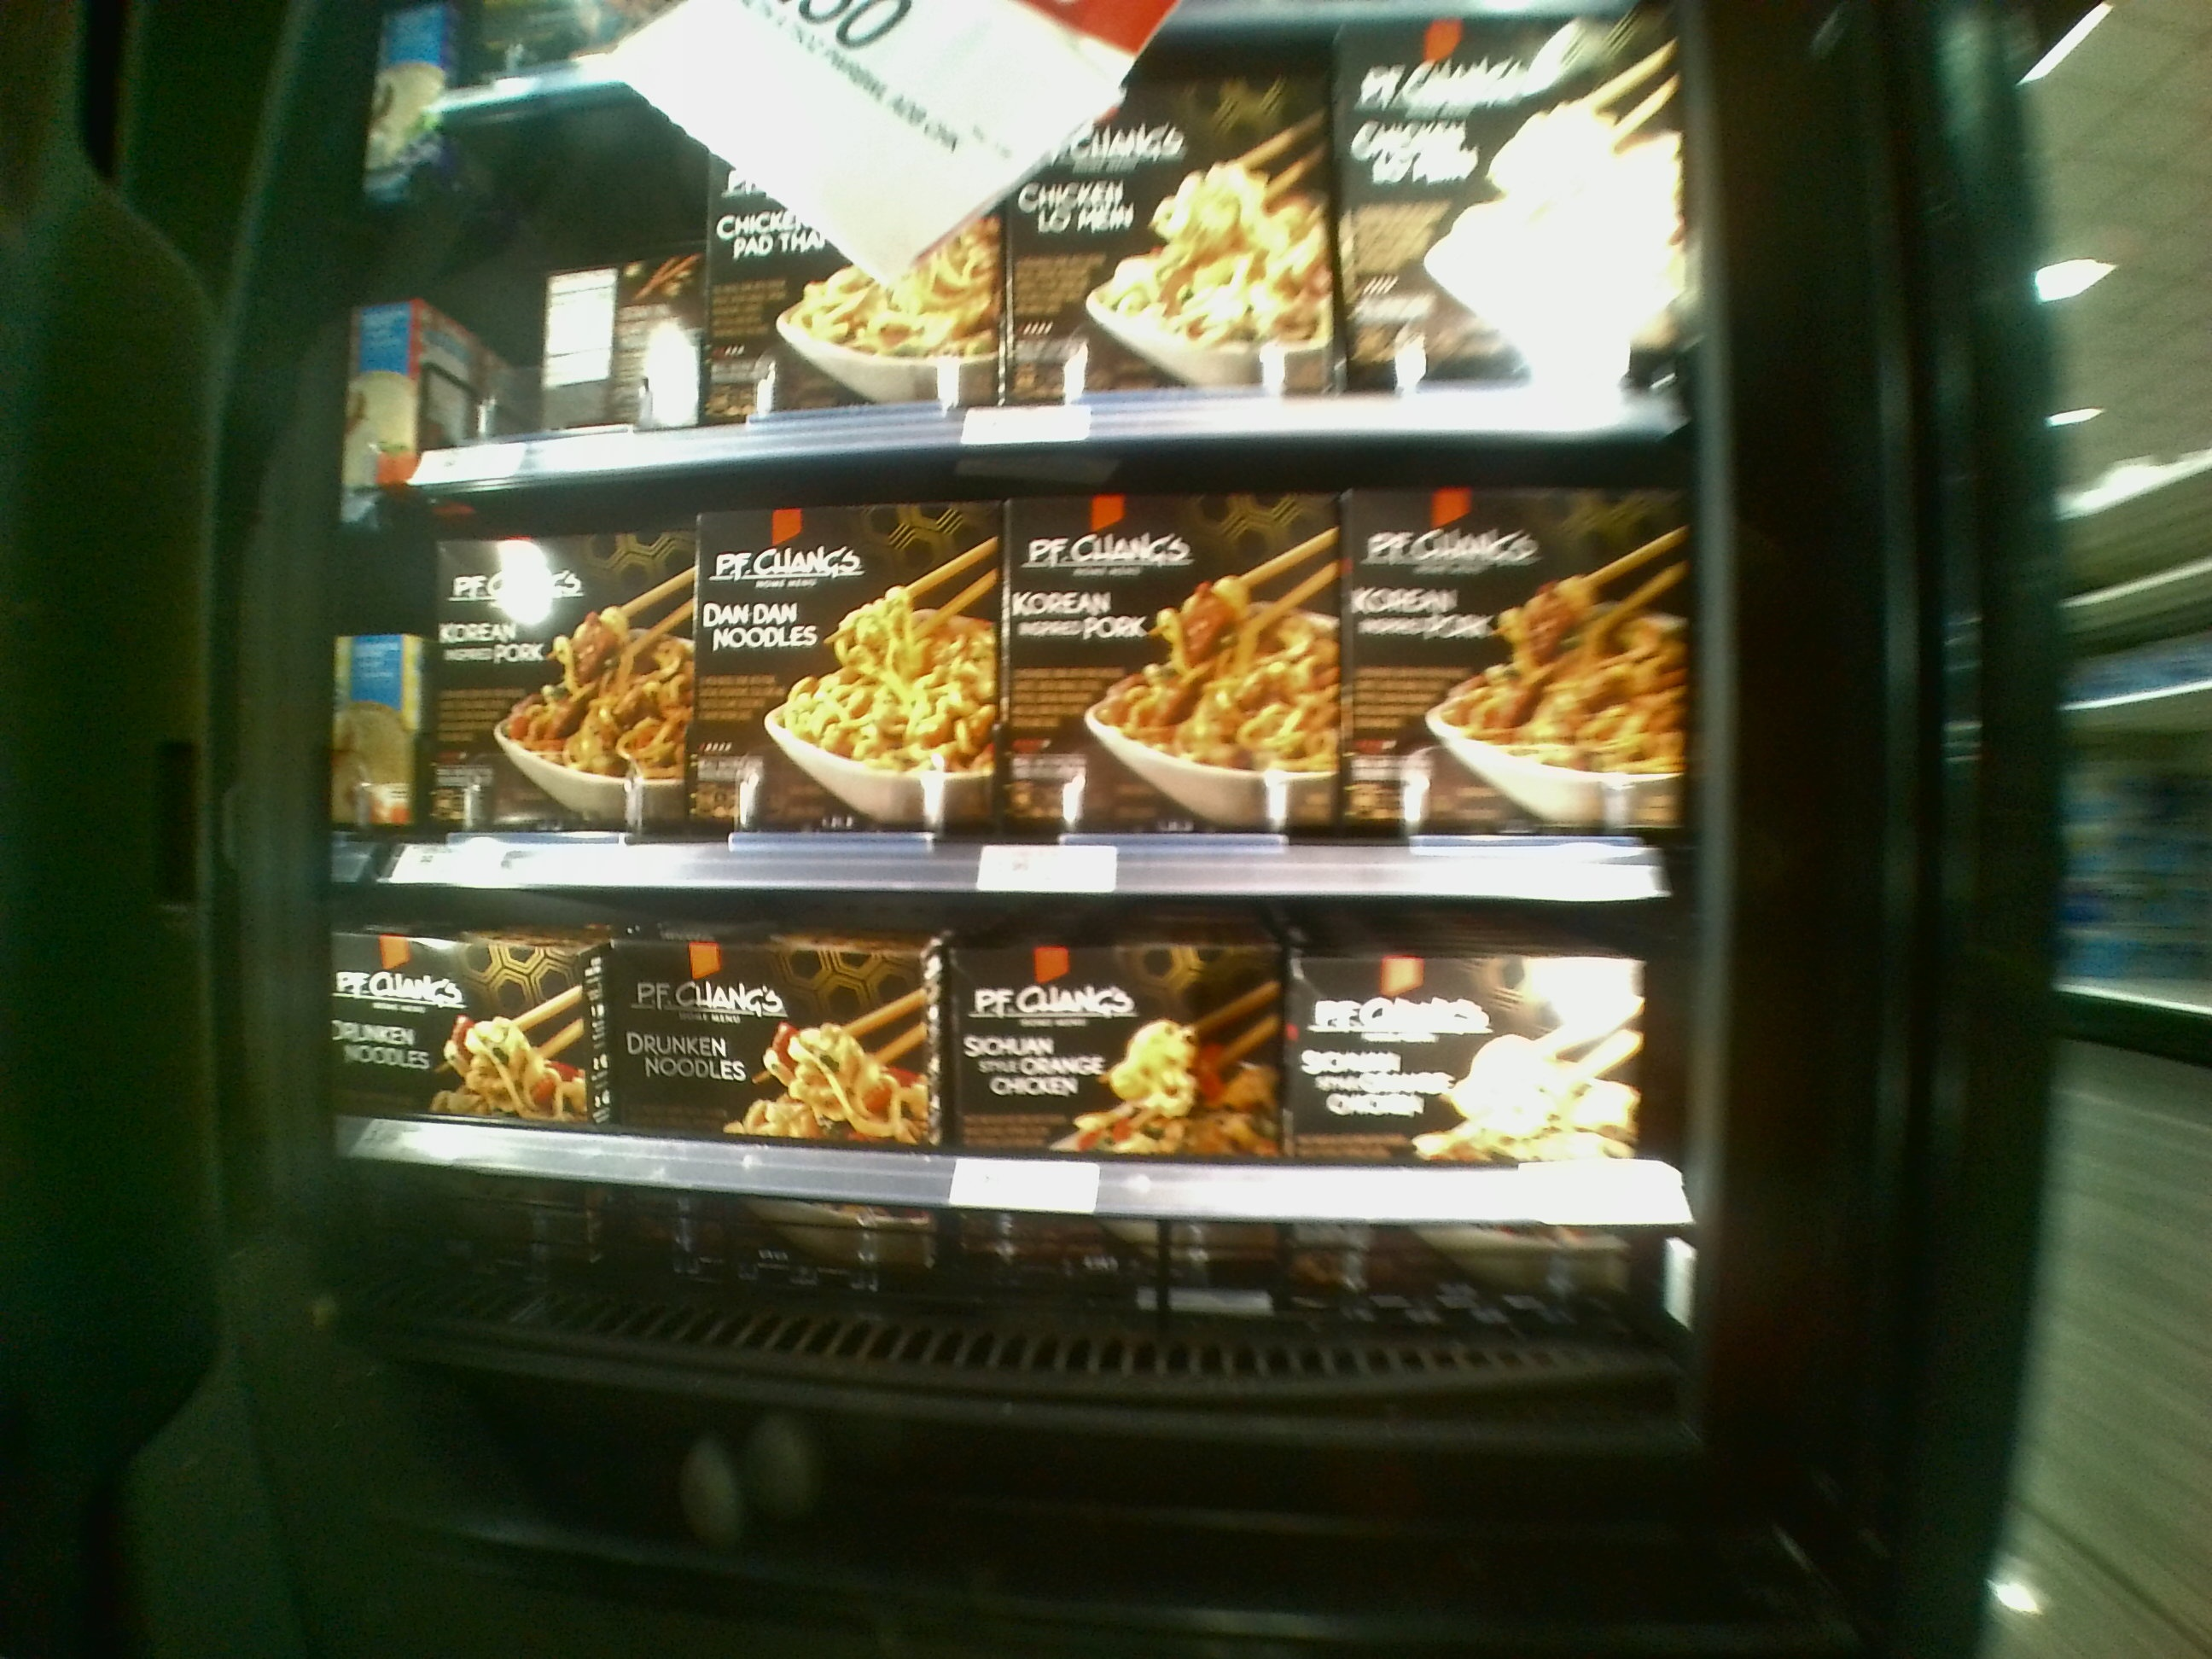shelf: (327, 892, 1691, 1420), (333, 420, 1696, 890)
